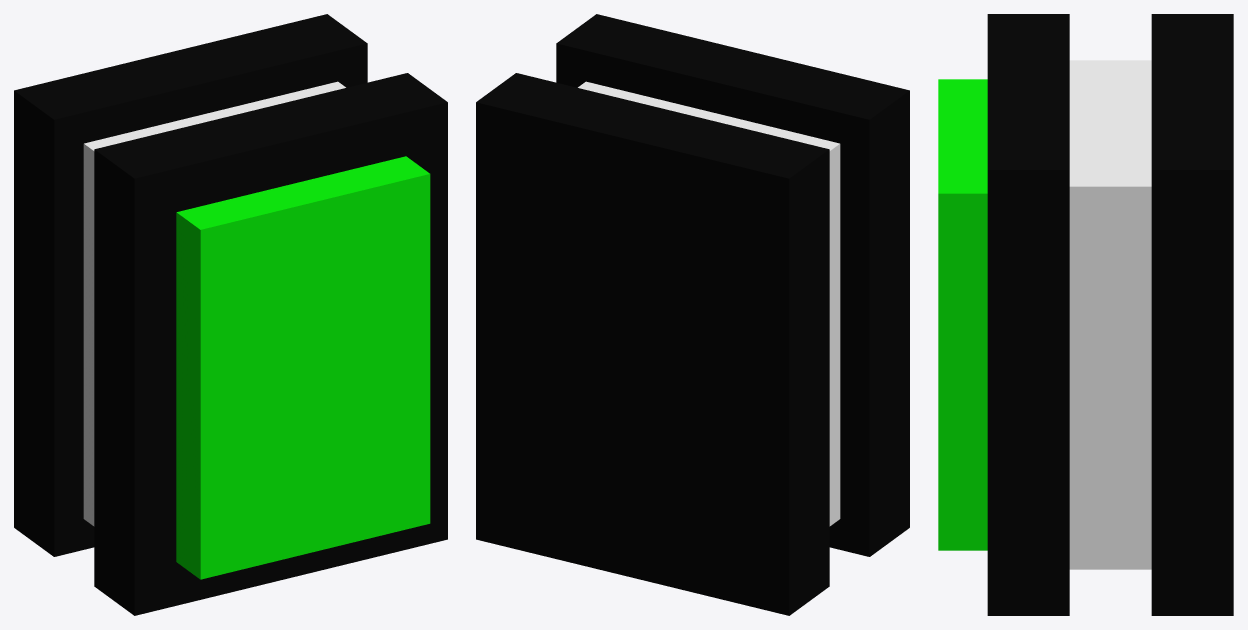
File: Switch.FBX
3 renders of one model, left to right at view 1: azimuth 30°, elevation 25°; view 2: azimuth 150°, elevation 25°; view 3: azimuth 270°, elevation 25°, orthographic. The views are drawn at different scales.
Parts seen in each view (by area): view 1: SwitchCase, SwitchIndicatorGreen, SwitchLightStrip; view 2: SwitchCase, SwitchLightStrip; view 3: SwitchCase, SwitchLightStrip, SwitchIndicatorGreen.
Boxes of the visible parts, x1,y1,x2,y2 form: SwitchCase: (14, 14, 447, 615); SwitchIndicatorGreen: (176, 156, 430, 579); SwitchLightStrip: (83, 81, 345, 526); SwitchCase: (476, 14, 909, 615); SwitchLightStrip: (578, 81, 840, 526); SwitchCase: (987, 14, 1233, 615); SwitchLightStrip: (1069, 60, 1151, 569); SwitchIndicatorGreen: (938, 79, 987, 550).
Bounding box in the file's own units: 0.75 × 1 × 0.6.
